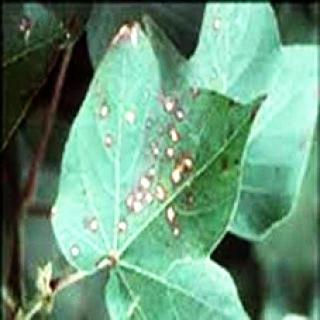leaf spot: (73, 57, 219, 273)
